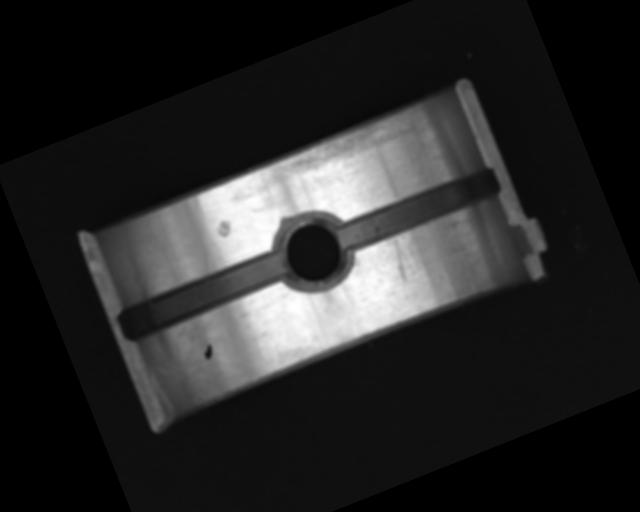blot: (200, 342, 216, 360)
bruise: (213, 217, 235, 240)
gap: (114, 244, 293, 344), (336, 162, 503, 255)
hole: (265, 201, 363, 302)
nick: (384, 232, 419, 285)
scratch: (267, 102, 426, 188)
